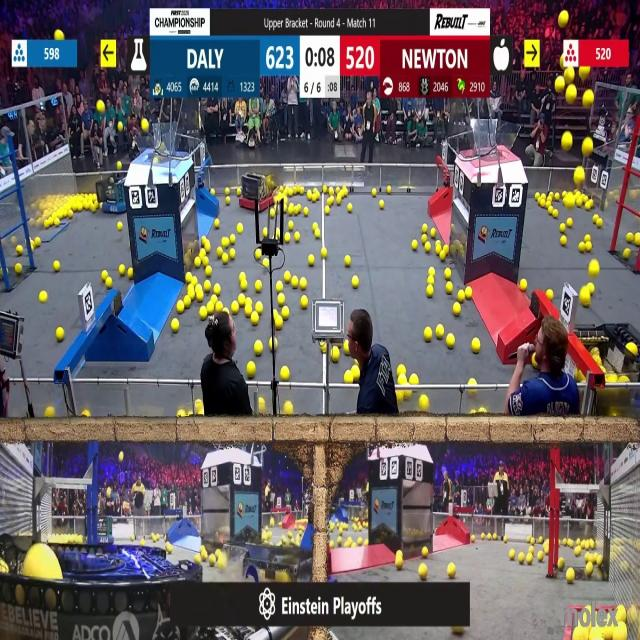ball_airborne: (563, 132, 573, 151), (565, 87, 576, 104), (573, 168, 584, 185), (584, 138, 594, 155), (585, 91, 595, 107), (559, 10, 569, 26), (582, 289, 591, 306), (590, 262, 599, 277), (564, 68, 574, 81), (556, 76, 565, 90), (141, 118, 149, 132), (581, 66, 590, 78), (98, 101, 106, 113), (56, 30, 64, 40), (117, 120, 123, 130), (121, 450, 126, 461), (119, 160, 124, 168)
ball_ground: (247, 361, 256, 376), (420, 395, 429, 410), (395, 554, 403, 570), (471, 339, 479, 354), (453, 624, 463, 636), (217, 557, 226, 570), (284, 404, 293, 417), (448, 563, 456, 577), (281, 365, 289, 379), (420, 564, 428, 578), (447, 335, 455, 349), (58, 327, 66, 341), (424, 327, 432, 341), (254, 342, 262, 356), (352, 366, 360, 380), (197, 288, 205, 302), (566, 569, 574, 582), (587, 562, 594, 576), (331, 348, 338, 362), (39, 290, 47, 302), (411, 374, 419, 386), (275, 318, 283, 330), (345, 372, 353, 384), (200, 308, 208, 320), (251, 314, 259, 326), (446, 282, 454, 294), (258, 397, 264, 413), (172, 319, 179, 332), (282, 307, 289, 320), (438, 324, 445, 337), (454, 304, 461, 317), (45, 408, 53, 419), (186, 284, 194, 295), (395, 390, 403, 401), (352, 276, 359, 288), (177, 302, 184, 314), (302, 296, 309, 308), (276, 282, 284, 292), (204, 281, 212, 291), (244, 306, 252, 316), (627, 234, 635, 244), (572, 629, 580, 639), (344, 343, 350, 356), (254, 281, 261, 292), (291, 277, 298, 288), (193, 256, 200, 267), (254, 249, 261, 260), (458, 290, 465, 301), (230, 248, 237, 259), (526, 554, 533, 565), (264, 257, 271, 268), (427, 285, 433, 297), (521, 280, 527, 292), (233, 303, 239, 315), (465, 288, 471, 300), (397, 376, 405, 385), (213, 284, 220, 294), (239, 294, 246, 304), (445, 270, 452, 280), (208, 304, 215, 314), (221, 238, 228, 248), (586, 200, 593, 210), (312, 190, 319, 200), (106, 278, 112, 289), (346, 255, 352, 266), (55, 262, 61, 273), (128, 269, 134, 280), (309, 254, 315, 265), (299, 278, 305, 289), (185, 273, 191, 284), (14, 265, 20, 276), (118, 266, 124, 277), (587, 242, 593, 253), (422, 548, 428, 559), (210, 556, 216, 567), (558, 558, 564, 569), (210, 294, 218, 302), (203, 256, 210, 265), (507, 551, 514, 560), (546, 289, 552, 299), (256, 304, 262, 314), (561, 237, 567, 247), (321, 248, 327, 258), (284, 273, 290, 283), (241, 281, 247, 291), (284, 234, 290, 244), (624, 249, 630, 259), (578, 242, 584, 252), (278, 294, 284, 304), (398, 364, 404, 374), (16, 245, 22, 255), (425, 243, 431, 253), (222, 253, 228, 263), (194, 554, 200, 564), (206, 268, 212, 278), (184, 296, 190, 306), (519, 554, 525, 564), (214, 218, 220, 228), (441, 251, 447, 261), (276, 229, 282, 239), (166, 542, 172, 552), (435, 244, 441, 254), (102, 271, 108, 281), (588, 283, 594, 293), (586, 553, 592, 563), (294, 205, 300, 215), (542, 543, 548, 553), (596, 218, 602, 228), (575, 198, 581, 208), (215, 304, 222, 312), (115, 222, 122, 230), (178, 411, 185, 419), (635, 235, 640, 246), (315, 231, 321, 240), (35, 238, 41, 247), (427, 276, 433, 285), (537, 553, 543, 562), (560, 223, 566, 232), (237, 223, 243, 232), (231, 236, 237, 245), (553, 209, 559, 218), (532, 359, 538, 368), (422, 223, 428, 232), (337, 198, 343, 207), (201, 248, 207, 257), (270, 209, 276, 218), (326, 198, 332, 207), (574, 548, 580, 557), (413, 240, 418, 250), (294, 233, 299, 243), (264, 229, 269, 239), (288, 220, 293, 230), (203, 552, 208, 562), (288, 205, 293, 215), (82, 412, 89, 419), (370, 188, 376, 196), (216, 248, 222, 256), (240, 273, 246, 281), (539, 200, 545, 208), (428, 269, 434, 277), (469, 378, 475, 386), (190, 276, 196, 284), (534, 192, 540, 200), (422, 235, 428, 243), (338, 536, 344, 544), (356, 537, 362, 545), (546, 192, 552, 200), (347, 537, 353, 545), (324, 207, 329, 216), (380, 201, 385, 210), (567, 218, 572, 227), (348, 204, 353, 213), (430, 230, 435, 239), (202, 239, 207, 248), (222, 306, 227, 315), (93, 204, 98, 213), (555, 192, 561, 199), (479, 409, 486, 415), (488, 536, 494, 543), (387, 185, 392, 193), (321, 346, 326, 354), (283, 205, 288, 213), (529, 544, 534, 552), (237, 188, 242, 196), (274, 310, 279, 318), (68, 210, 73, 218), (56, 218, 61, 226), (44, 220, 49, 228), (308, 190, 313, 198), (99, 202, 104, 210), (586, 235, 591, 242), (224, 188, 229, 195), (547, 208, 552, 215), (530, 537, 535, 544), (344, 523, 349, 530), (131, 534, 136, 541), (305, 208, 309, 216), (313, 222, 318, 228), (201, 544, 206, 550), (225, 198, 229, 205), (473, 538, 477, 545), (364, 538, 368, 545), (503, 535, 507, 542), (482, 533, 486, 540), (212, 188, 216, 195)
goal: (465, 122, 520, 160), (129, 128, 187, 160)
robot_blue: (98, 174, 128, 214), (88, 509, 114, 546)
robot_red: (239, 165, 279, 211)
